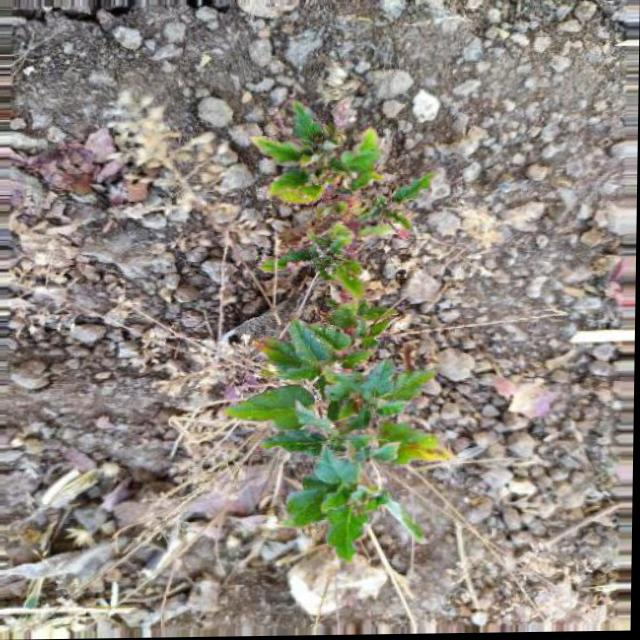weed: (235, 80, 466, 602)
